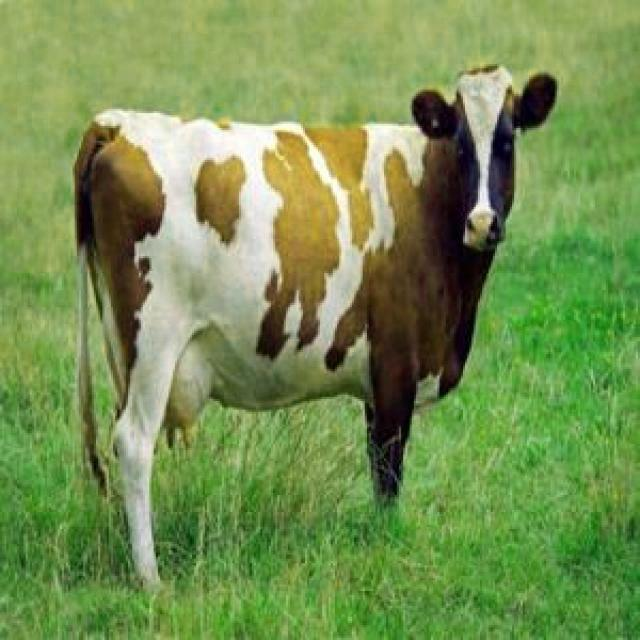cow: (75, 66, 555, 585)
